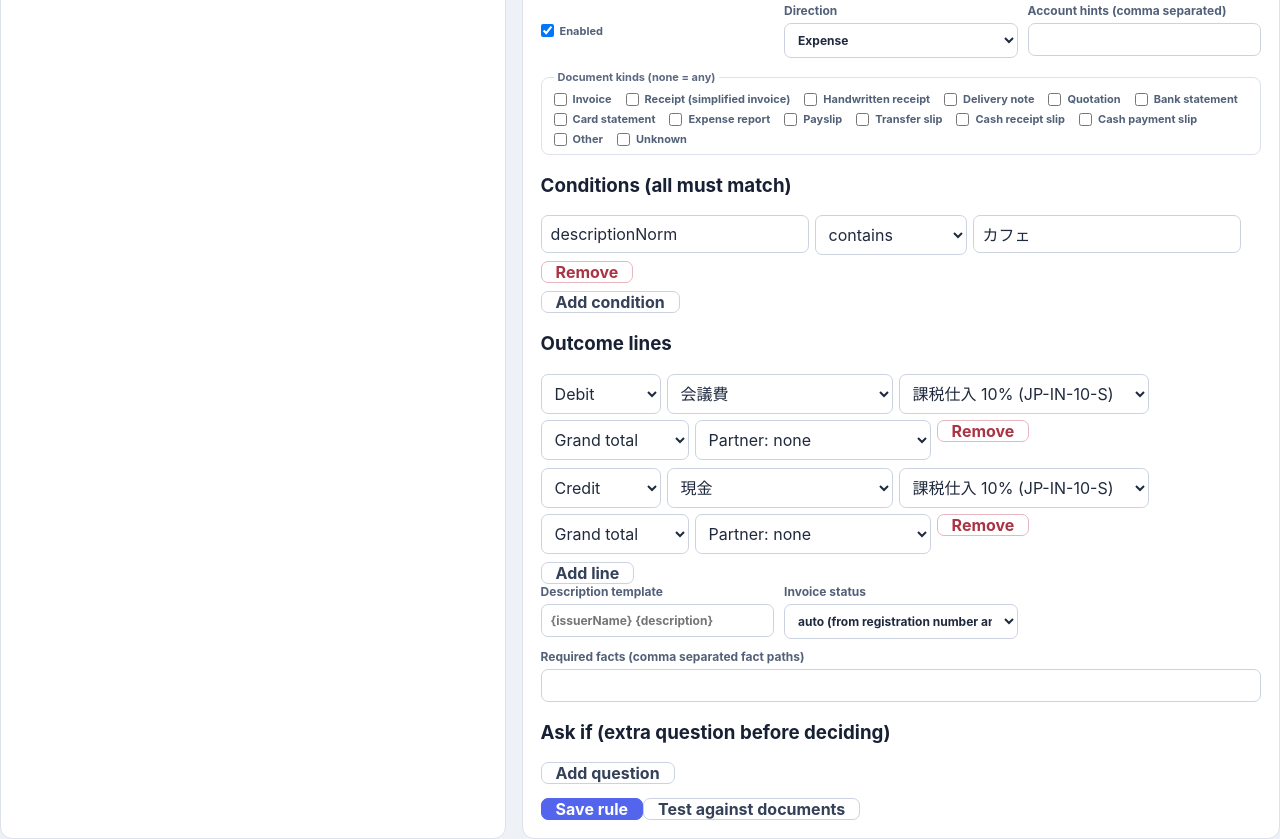
it: RulesTab › 例外: テスト対象の文書一覧が取れなくてもテスト欄は開ける
(page scrolled)
Click the button "Test against documents".
click(752, 809)  # box [643,798,860,820]
(page scrolled)
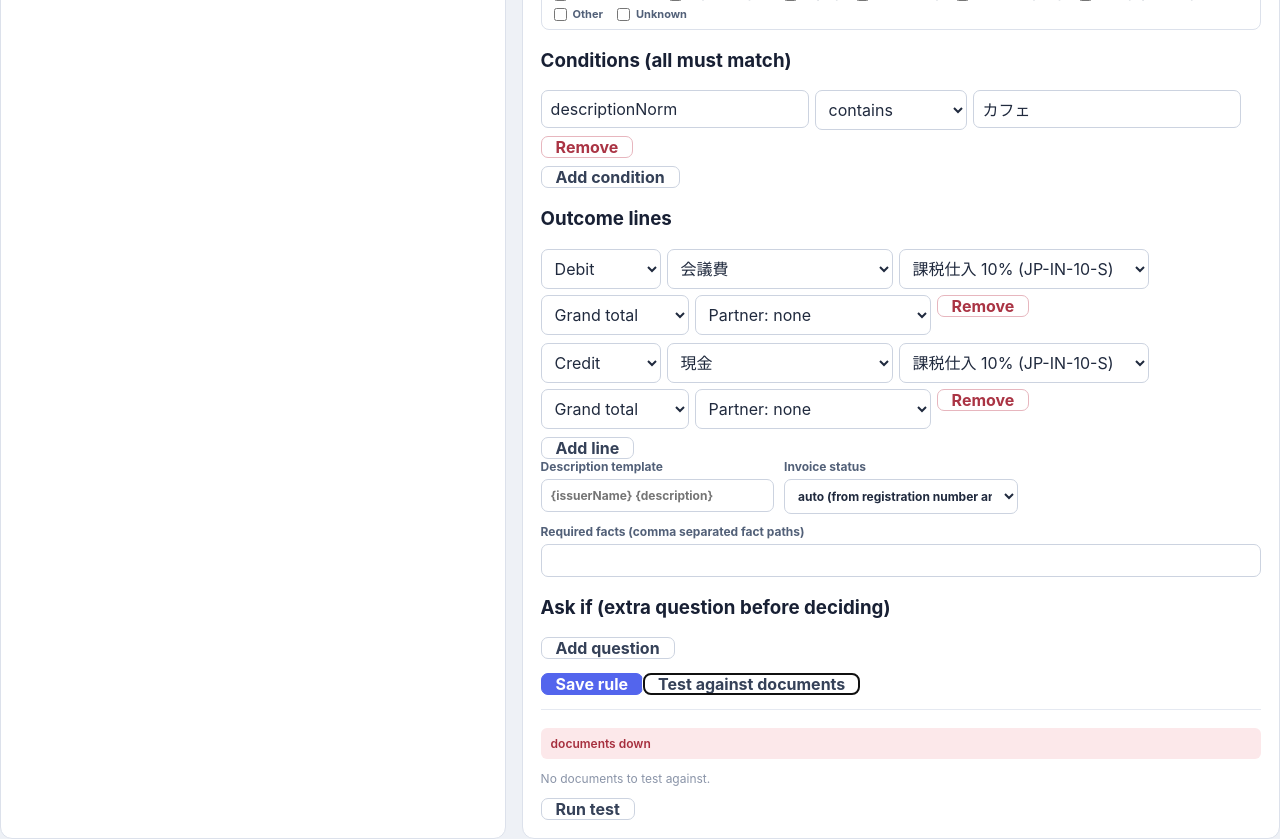
expect the text "documents down" is shown: met, box [541,728,1261,759]
expect the text "No documents to test against." is shown: met, box [541,771,710,786]
